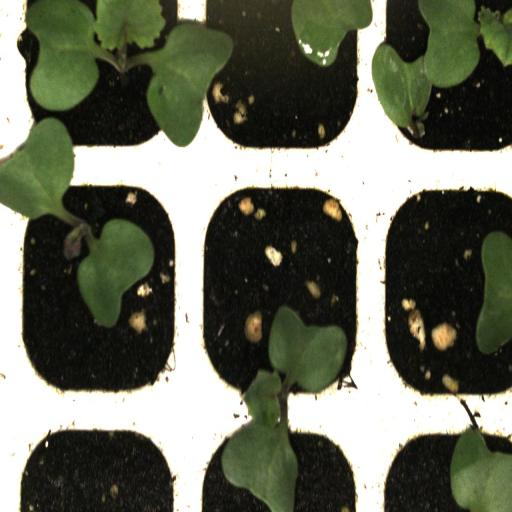Folha: (77, 218, 155, 328), (272, 0, 373, 66), (450, 428, 512, 512), (476, 231, 512, 354)
Germinacao: (190, 169, 376, 413), (6, 167, 186, 416), (10, 2, 192, 170), (372, 2, 512, 175)
